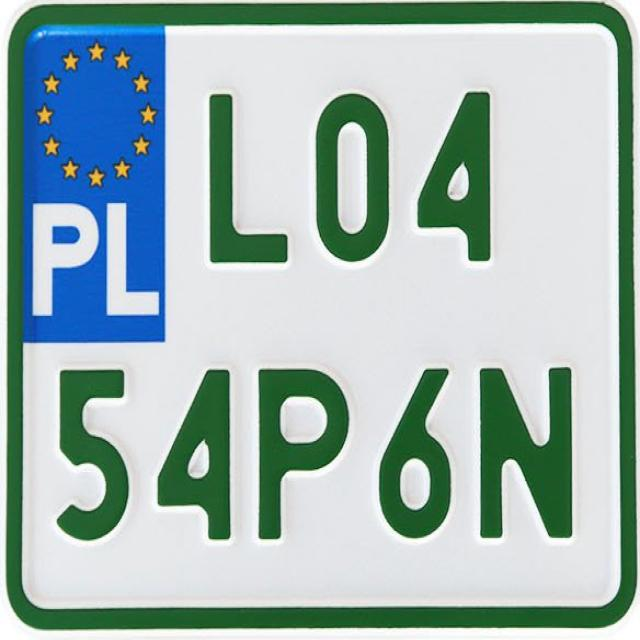pl_license_plate: (4, 1, 639, 628)
